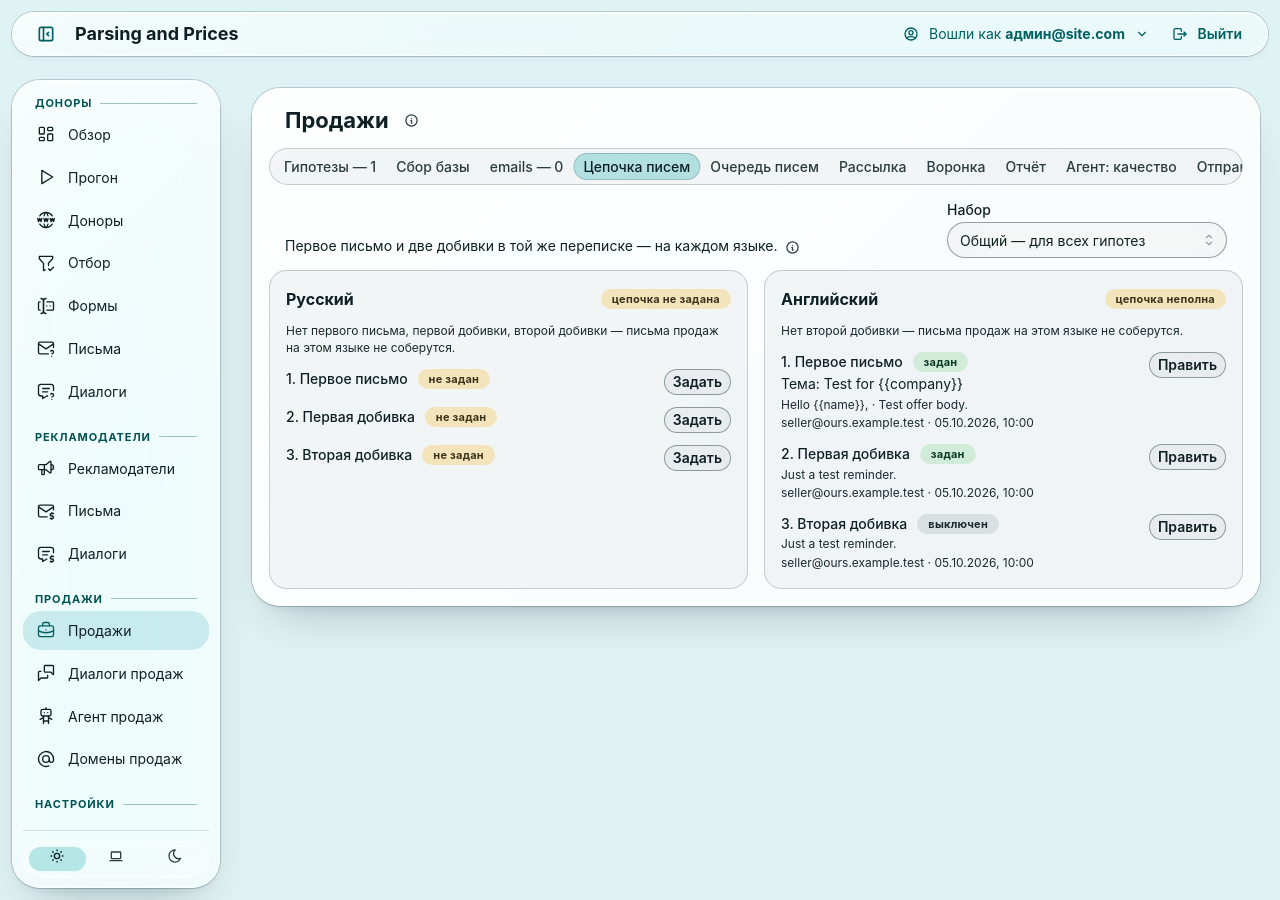
Test case: цепочка писем: окно шага › правка первого письма уходит телом целиком, и набор перечитывается
The width and height of the screenshot is (1280, 900).
Expected: the heading "Английский" is shown, [781,287,878,311]
Click the button "Править" in the row of "Test for {{company}}". click: (1187, 365)
box: [1149,352,1226,378]
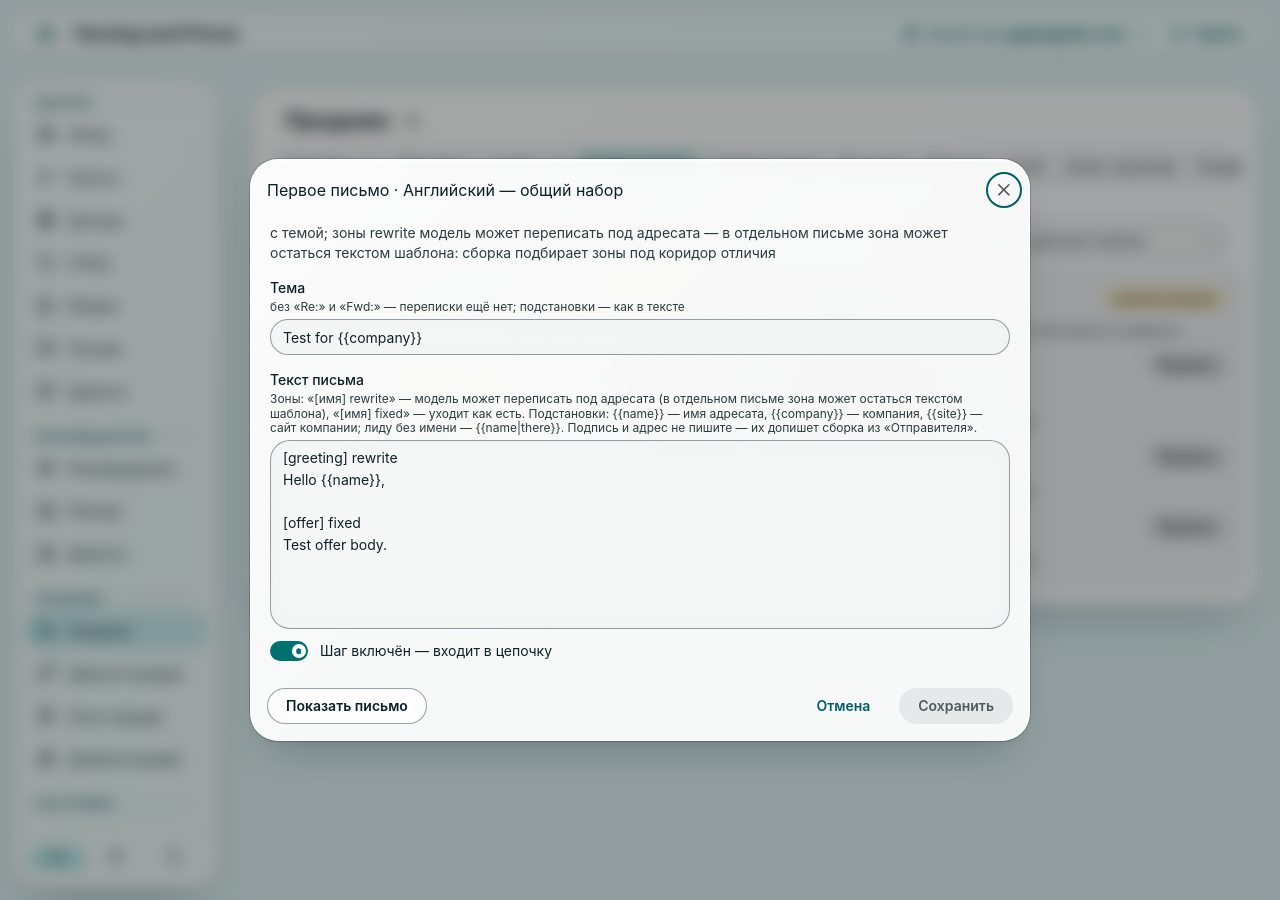
Clear the field labelled "Тема". click: (640, 337)
box: [270,319,1010,355]
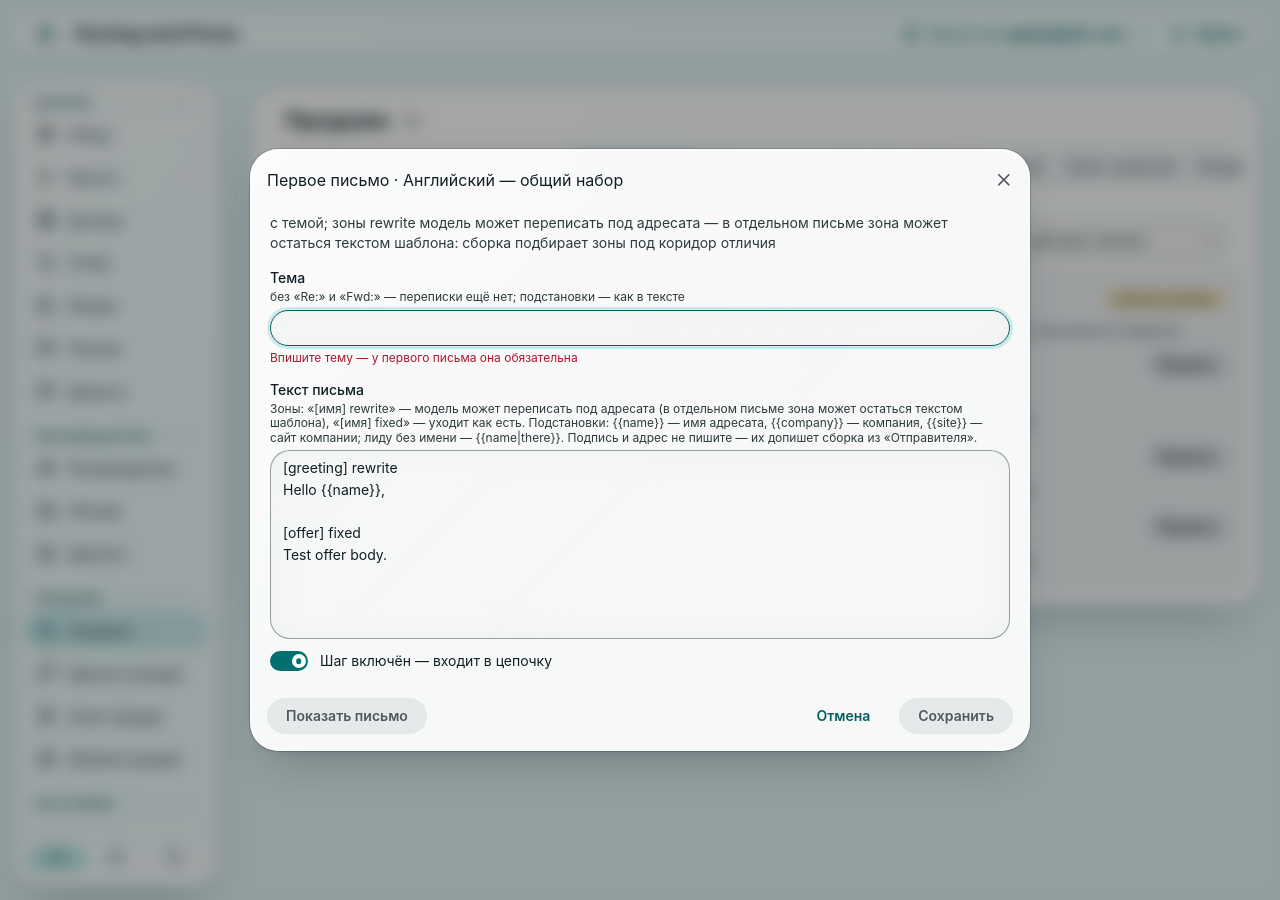
Type "Another test subject" into the field labelled "Тема". click: (640, 328)
box: [270,310,1010,346]
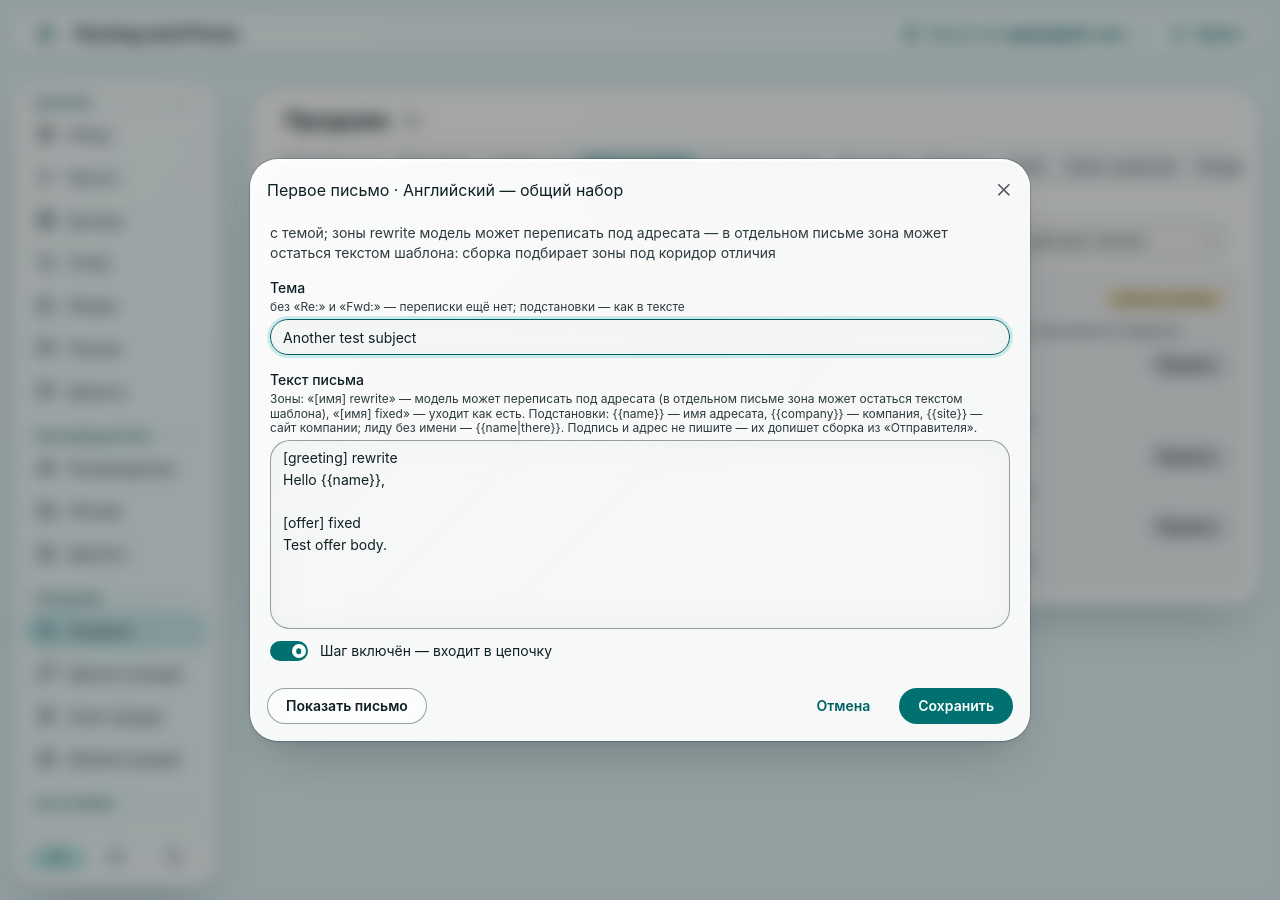
Click the button "Сохранить". click: (956, 706)
box: [899,688,1013,724]
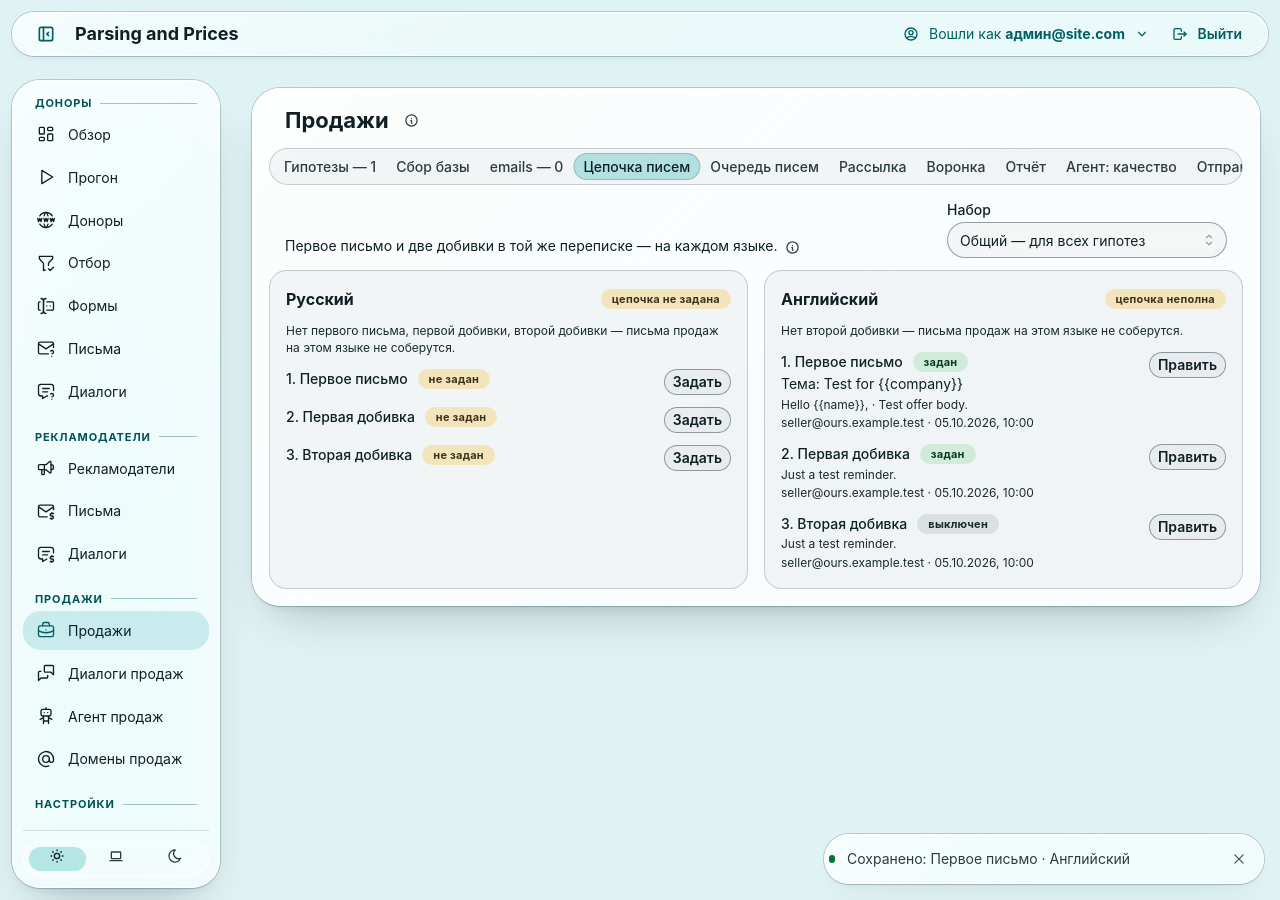
Now the text "Сохранено: Первое письмо · Английский" is shown, box [847,850,1130,867]
